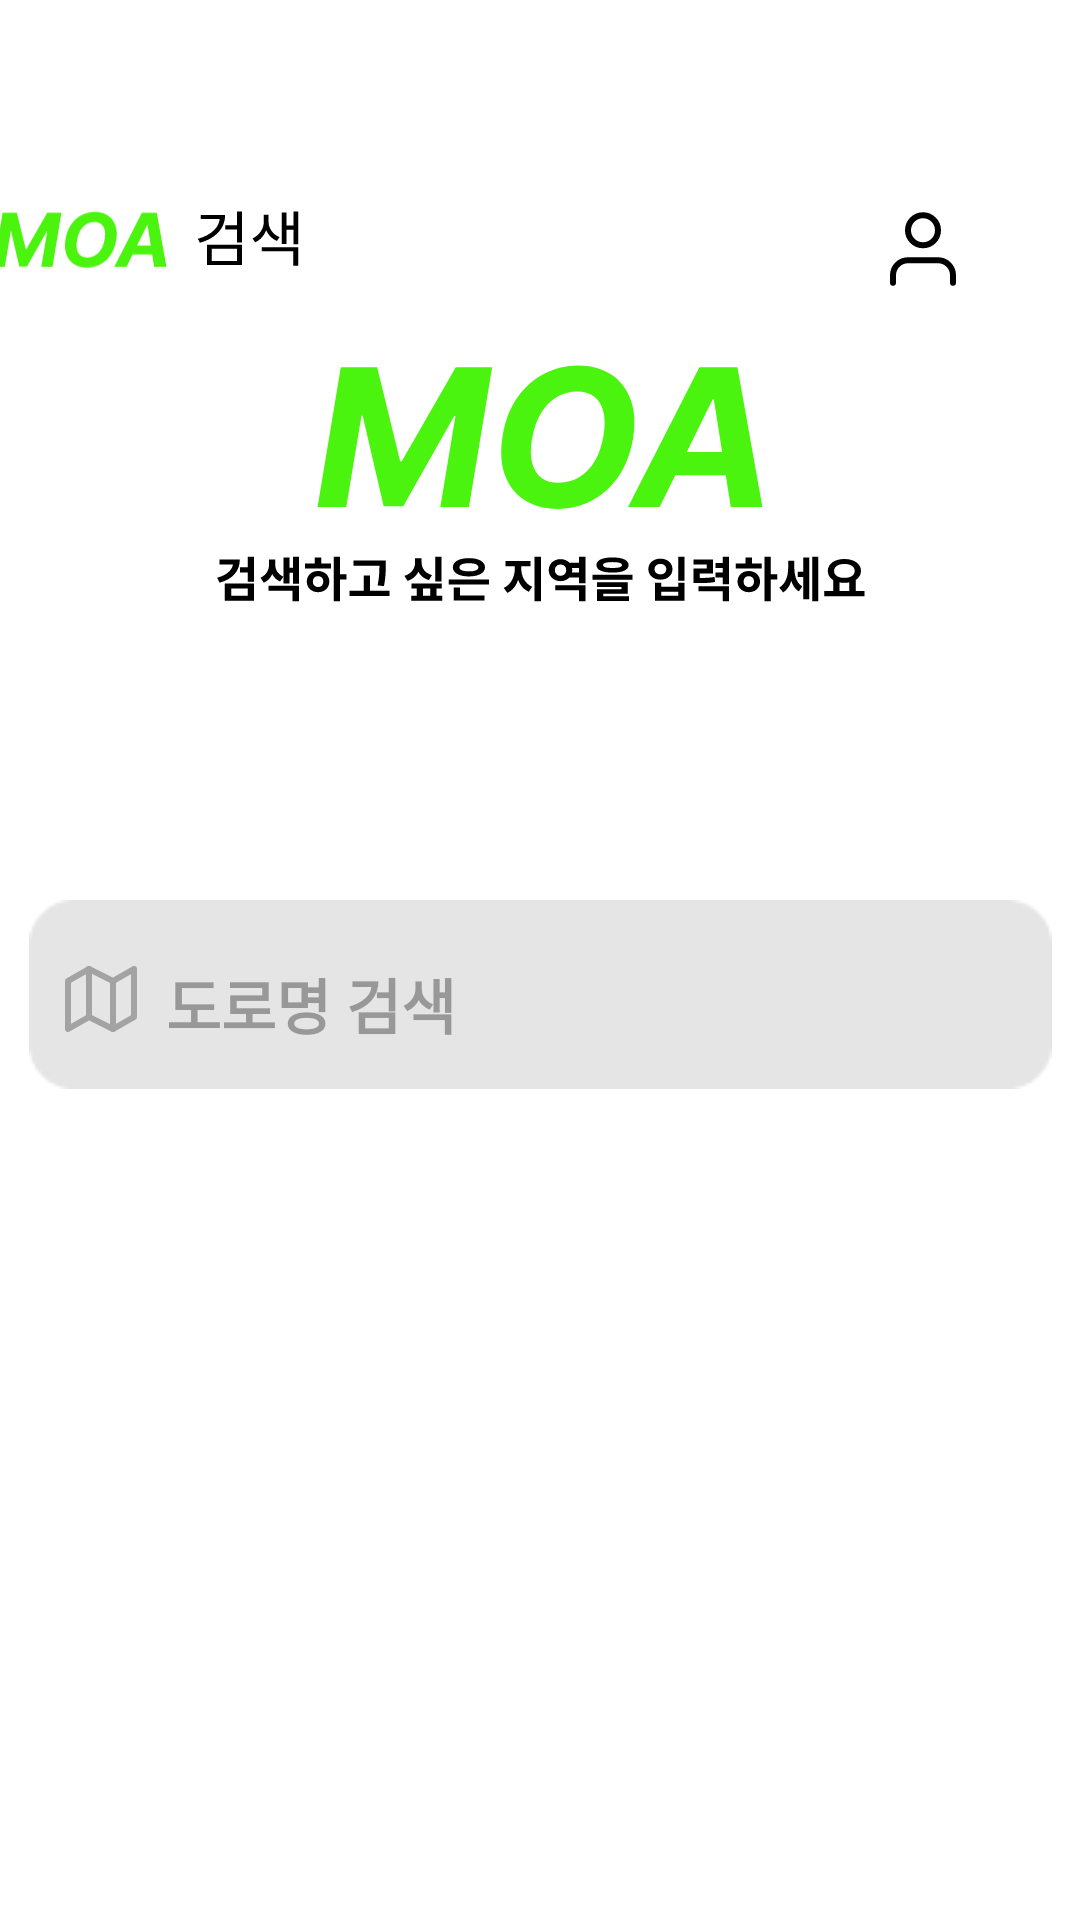

Icons on this 1080×1920 Android screen, each with its box as bbox(x1, y1, x2, y2):
human: bbox(890, 212, 956, 286)
map: bbox(65, 966, 137, 1032)
